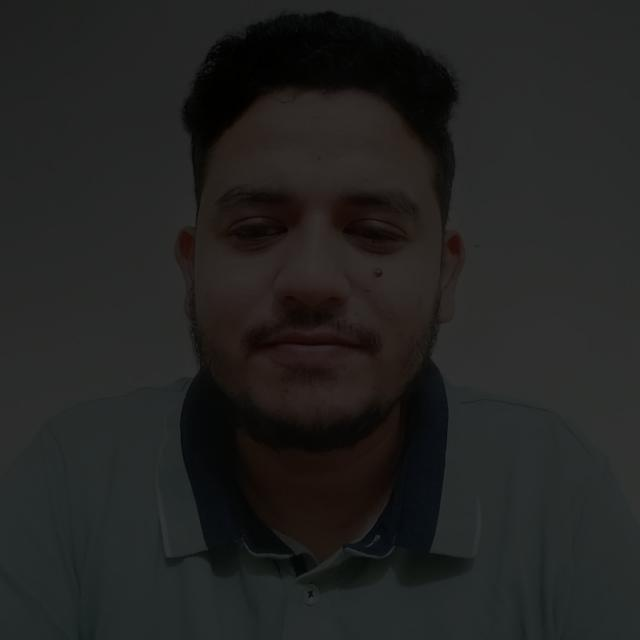Happy: (150, 76, 448, 453)
